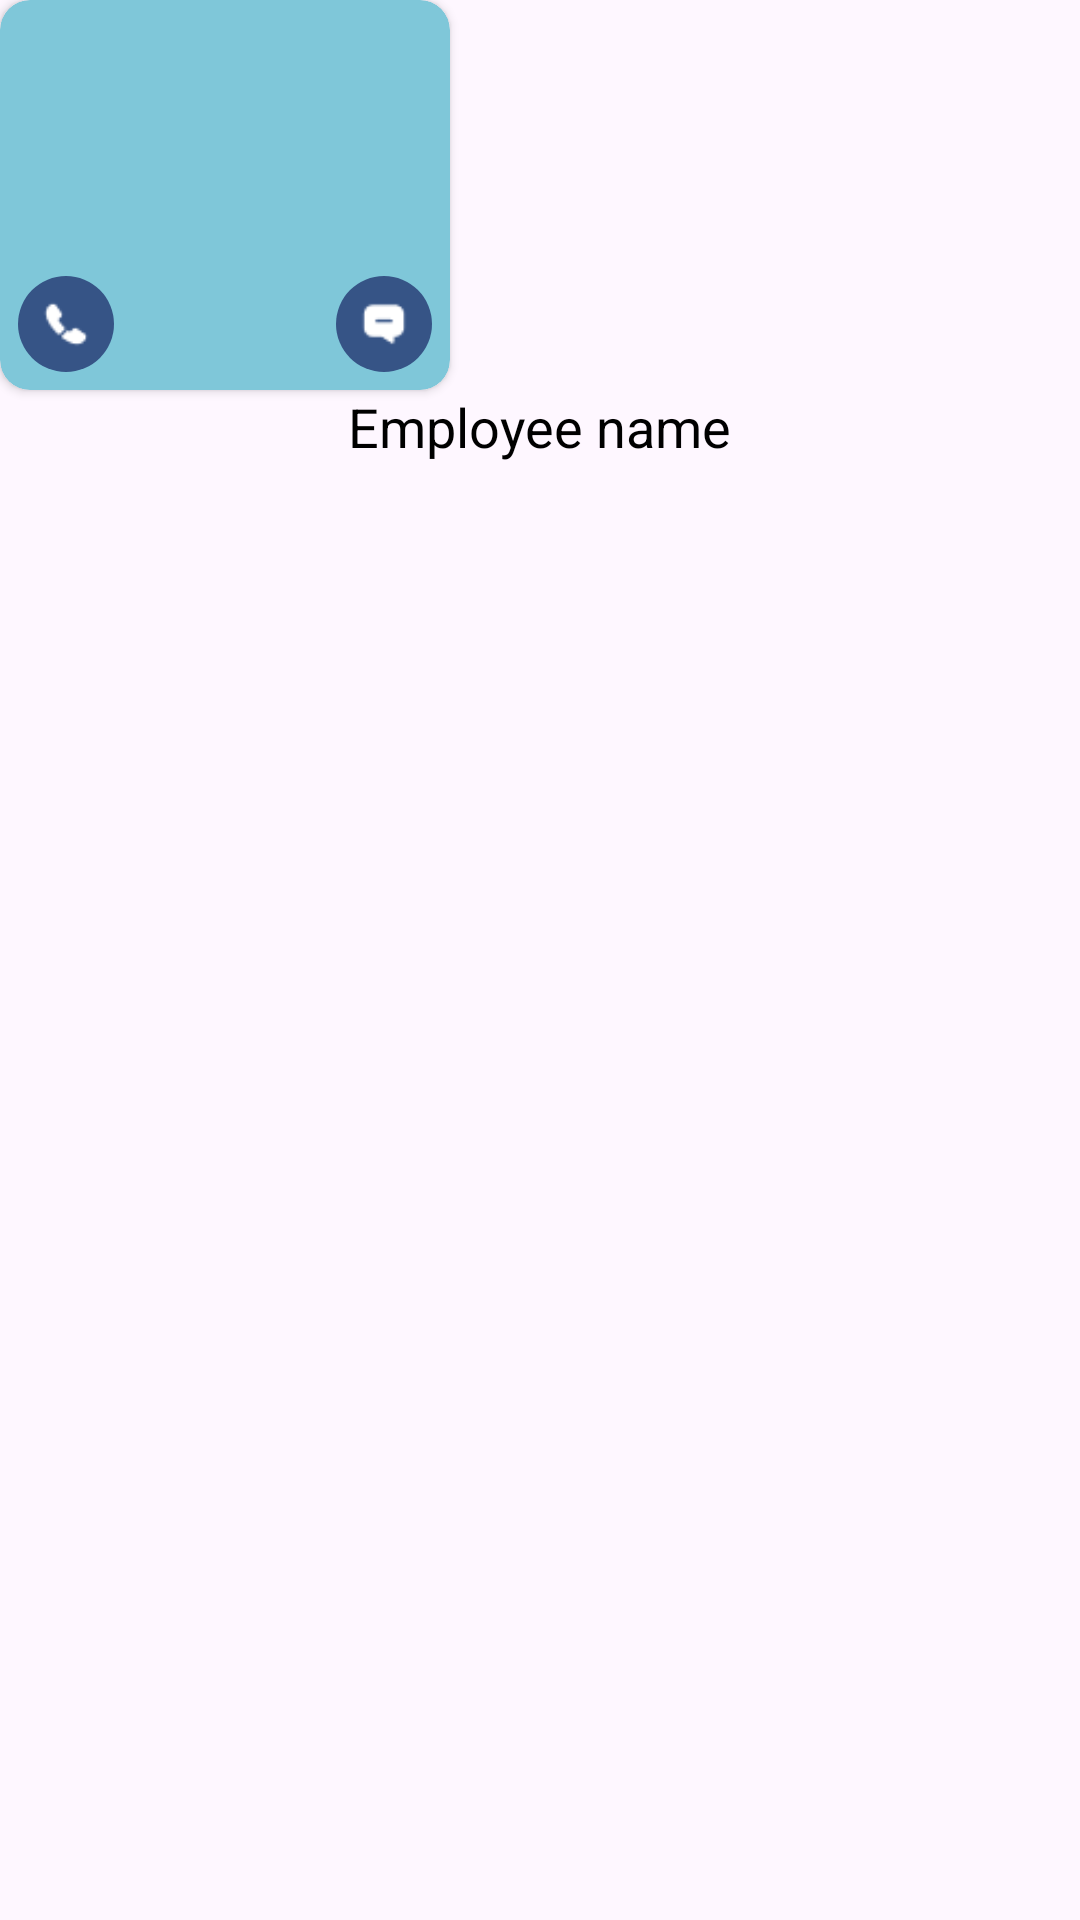

Icon click points for this 1080x1920 phone screenshot, format [x,y]:
call: [66,324]
message: [384,324]
